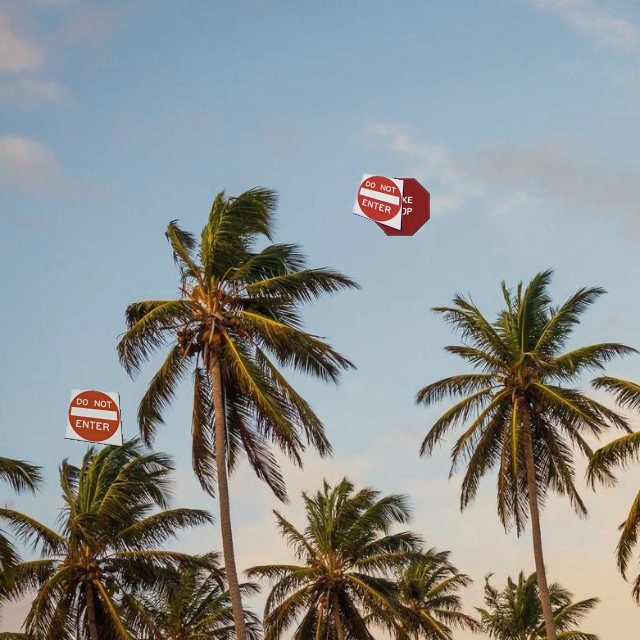DO_NOT_ENTER: (64, 388, 123, 447), (351, 172, 404, 231)
FAKE_STOP: (371, 177, 430, 236)
